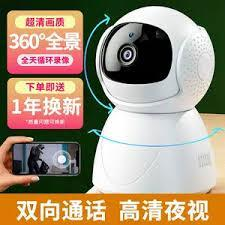maru: (95, 6, 216, 114)
